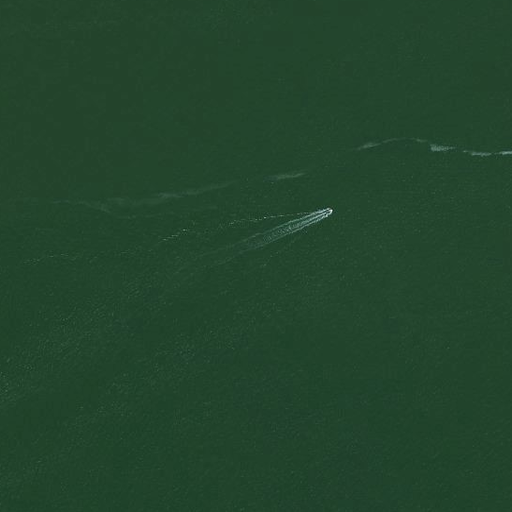ship: (327, 206, 335, 214)
